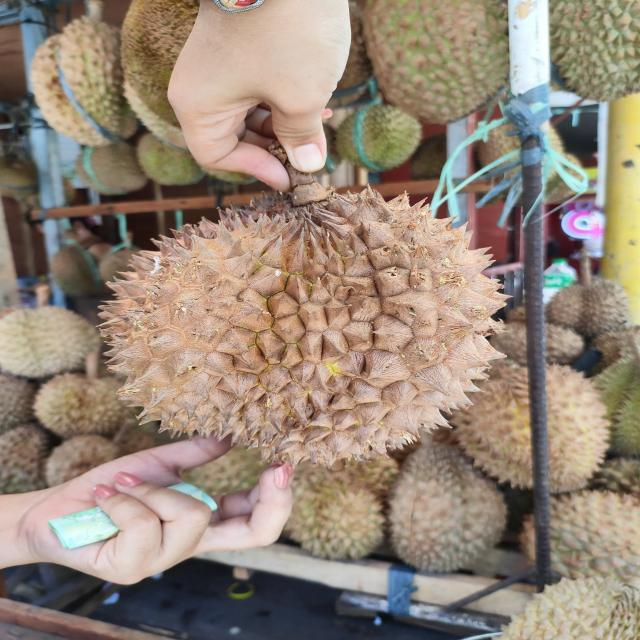mature: (92, 180, 514, 468)
